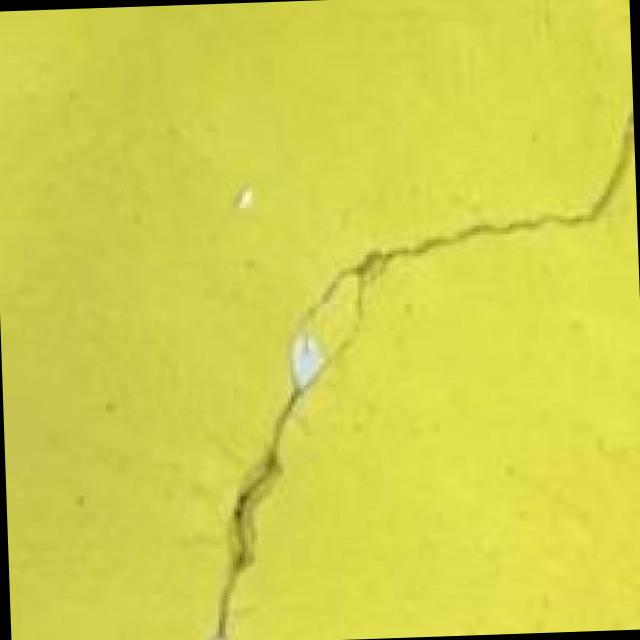crack: (195, 110, 640, 637)
